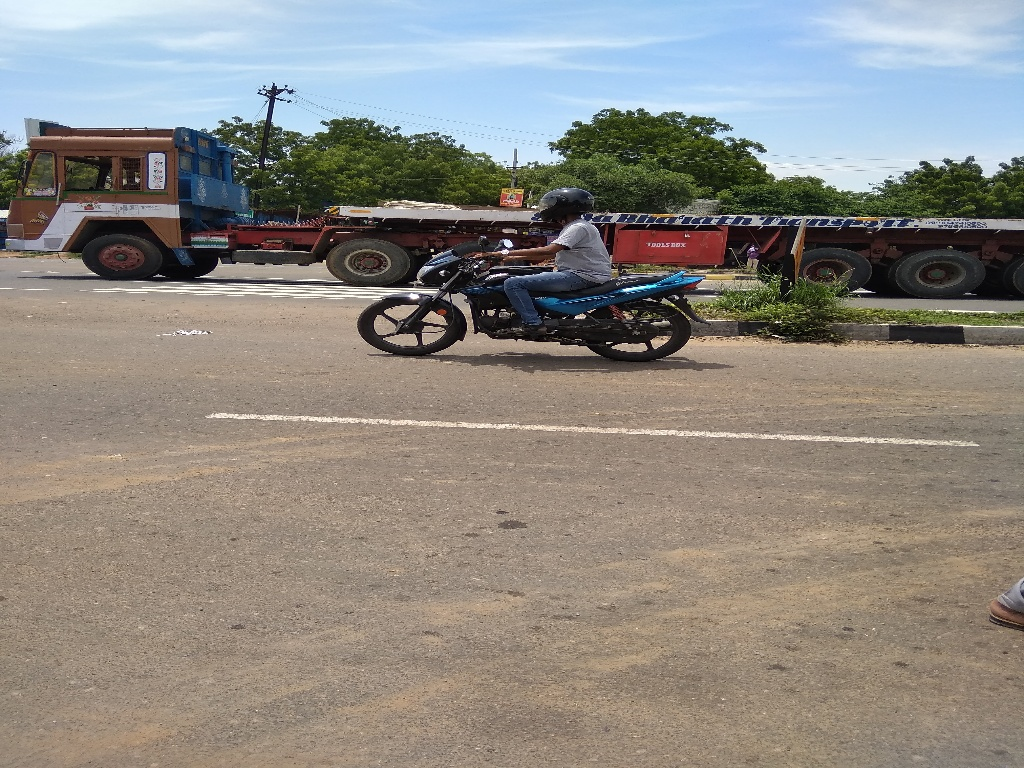biker: (345, 157, 721, 377)
helmet: (526, 176, 603, 243)
